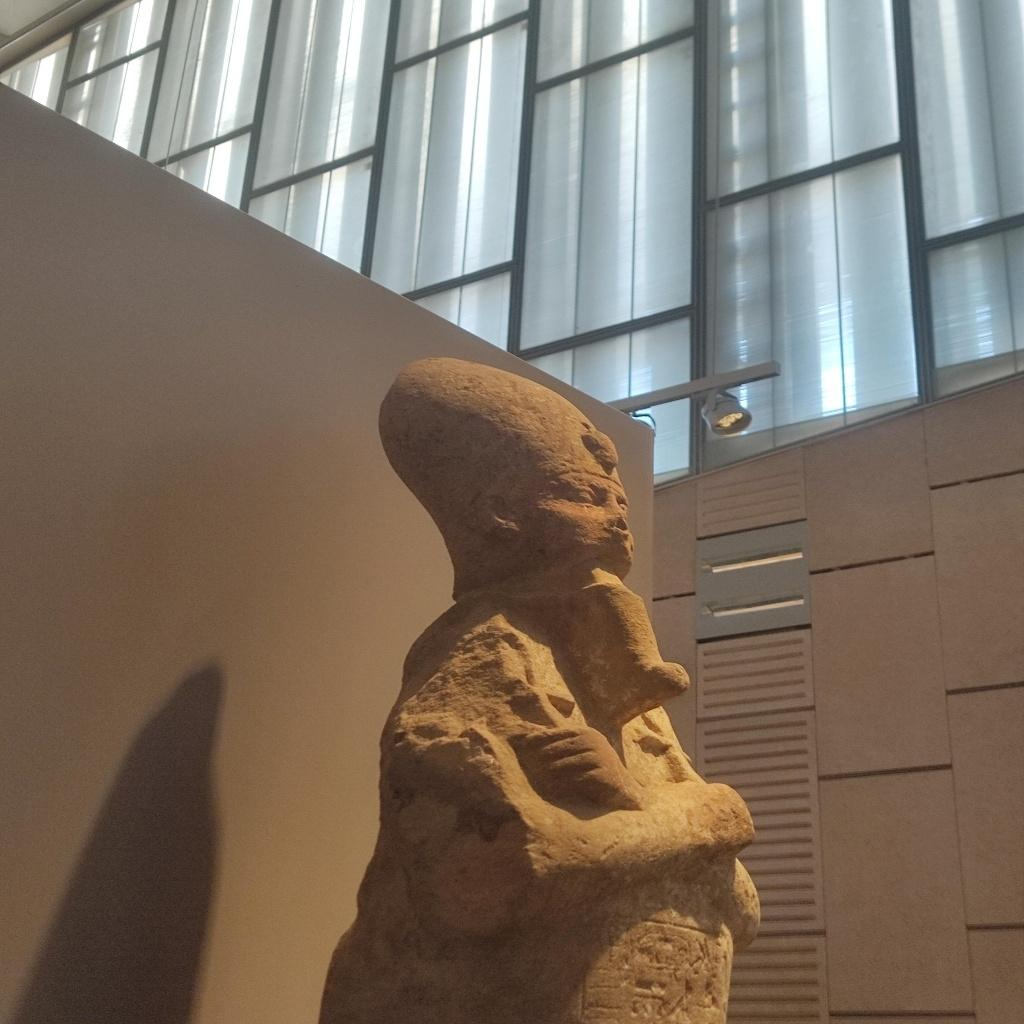Statue of Mentuhotep II: (334, 342, 778, 1024)
